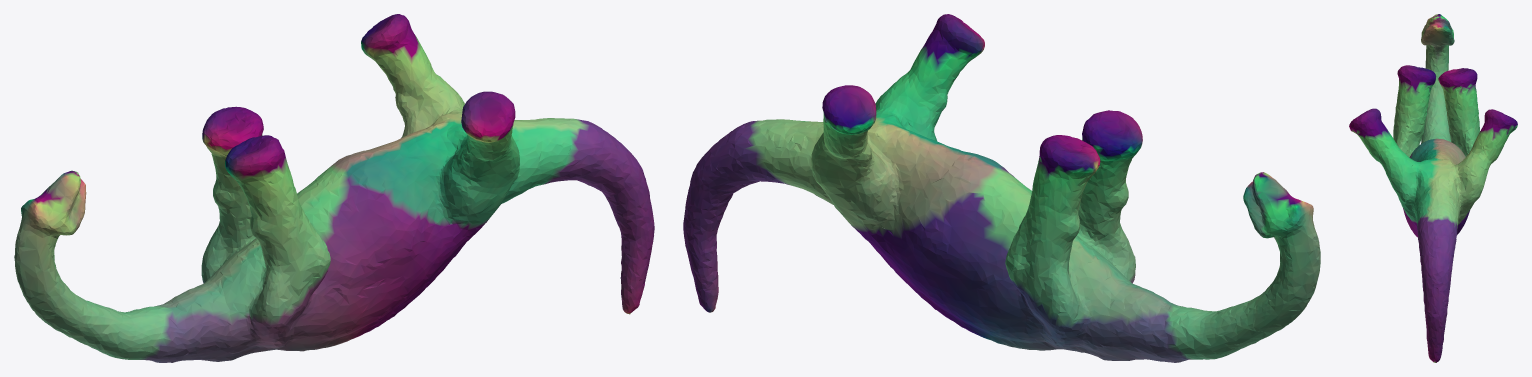
Rendered from dinosaur-18.off.obj.
3 views of the same model, side by side, from view 1: azimuth 30°, elevation 25°; view 2: azimuth 150°, elevation 25°; view 3: azimuth 270°, elevation 25° (orthographic). The views are drawn at different scales.
Bounding box in the file's own units: 1.73 × 0.7931 × 0.6246.
